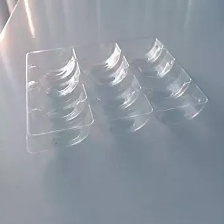plastic_box: (15, 27, 212, 158)
